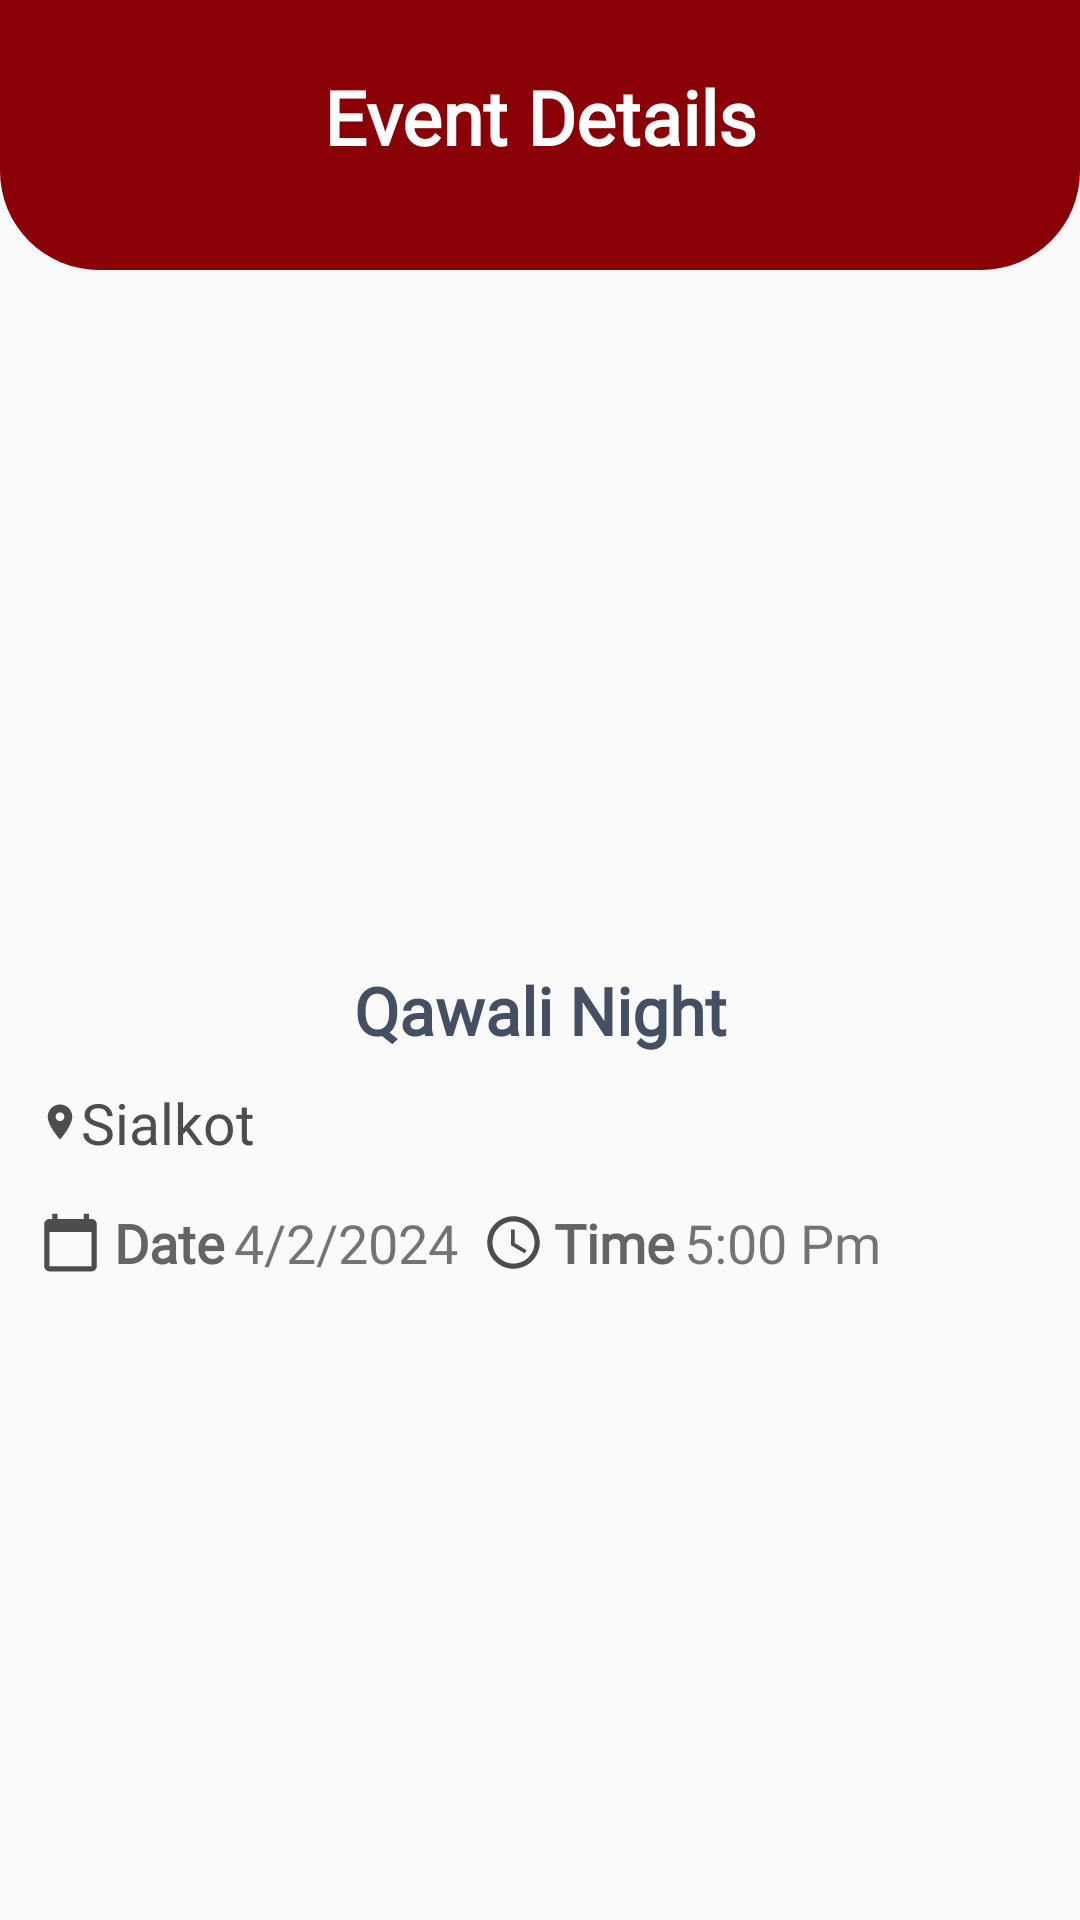

Named icons in this screenshot (1080x1920) and their centers, [x,y]:
calendar today: [70,1242]
